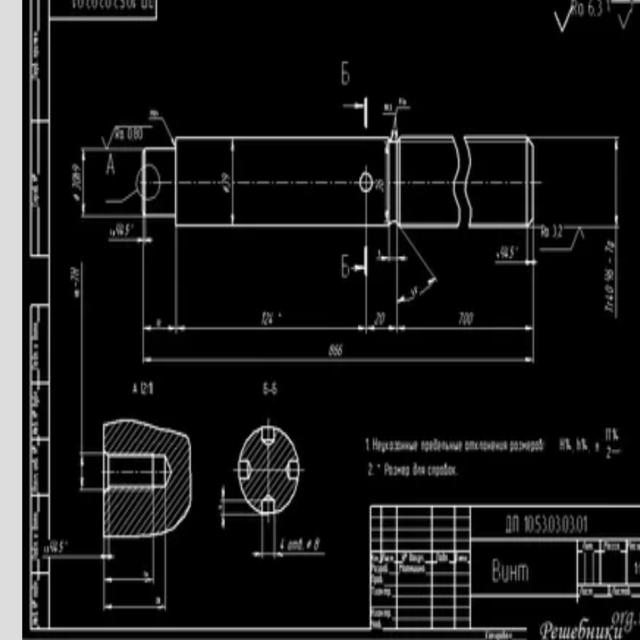marking_line: (147, 356, 533, 367), (177, 325, 366, 335), (399, 324, 534, 333), (610, 139, 622, 228), (105, 600, 165, 616), (252, 551, 327, 562), (229, 141, 238, 223), (80, 153, 88, 216), (106, 574, 149, 583), (144, 324, 175, 334), (494, 260, 529, 267), (366, 324, 395, 332)
numeric: (585, 1, 613, 18)
